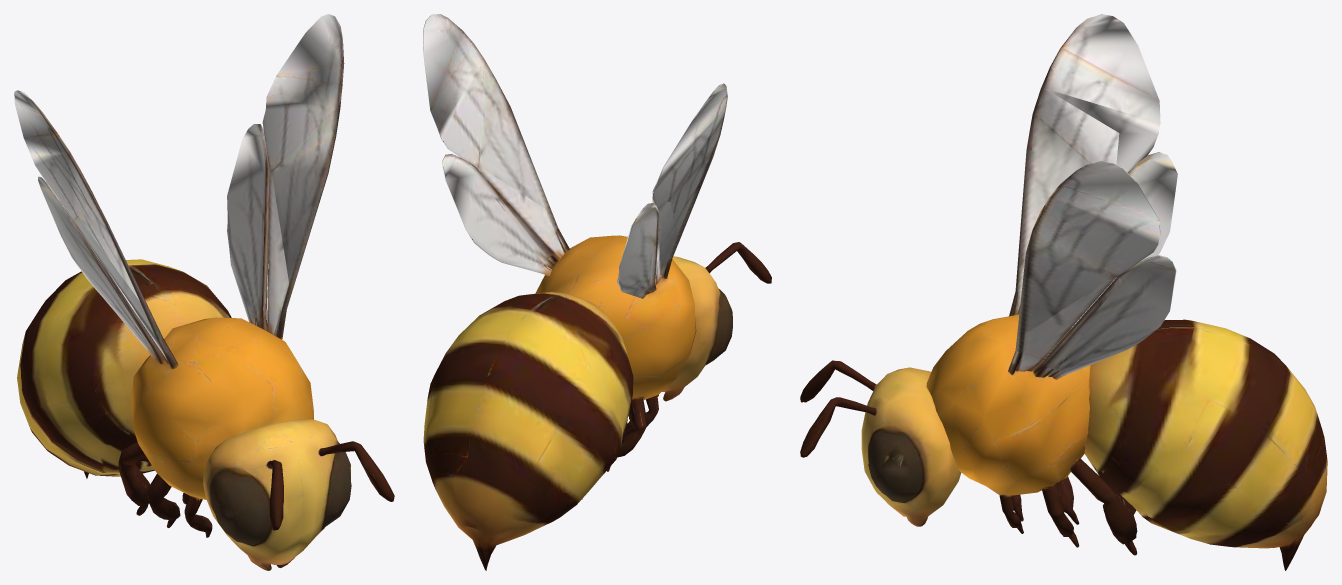
Rendered from bee.glb.
The picture shows the model from 3 angles, left to right: view 1: azimuth 30°, elevation 25°; view 2: azimuth 150°, elevation 25°; view 3: azimuth 270°, elevation 25°; orthographic projection. The views are drawn at different scales.
Visible parts, largest first — view 1: body_mesh, wing_fore_L_mesh, wing_fore_R_mesh, wing_hind_L_mesh, wing_hind_R_mesh, antenna_L_mesh, antenna_R_mesh, foreleg_R_mesh; view 2: body_mesh, wing_fore_L_mesh, wing_hind_L_mesh, wing_fore_R_mesh, wing_hind_R_mesh, antenna_R_mesh; view 3: body_mesh, wing_fore_R_mesh, wing_fore_L_mesh, wing_hind_L_mesh, wing_hind_R_mesh, antenna_L_mesh, antenna_R_mesh.
Boxes of the visible parts, box(x1,y1,x2,y2) form: body_mesh: box(17, 259, 351, 570); wing_fore_L_mesh: box(262, 14, 344, 339); wing_fore_R_mesh: box(14, 90, 178, 368); wing_hind_L_mesh: box(227, 124, 269, 331); wing_hind_R_mesh: box(38, 176, 165, 363); antenna_L_mesh: box(318, 441, 394, 501); antenna_R_mesh: box(266, 460, 283, 530); foreleg_R_mesh: box(184, 495, 212, 537); body_mesh: box(423, 235, 732, 570); wing_fore_L_mesh: box(423, 14, 569, 258); wing_hind_L_mesh: box(442, 154, 559, 275); wing_fore_R_mesh: box(652, 83, 727, 284); wing_hind_R_mesh: box(616, 203, 659, 298); antenna_R_mesh: box(705, 242, 771, 283); body_mesh: box(861, 314, 1327, 570); wing_fore_R_mesh: box(1009, 14, 1160, 316); wing_fore_L_mesh: box(1008, 161, 1160, 374); wing_hind_L_mesh: box(1033, 255, 1176, 379); wing_hind_R_mesh: box(1082, 152, 1177, 315); antenna_L_mesh: box(800, 397, 877, 457); antenna_R_mesh: box(800, 360, 876, 402).
Size of the model in its own units: 0.00938 by 0.0142 by 0.0141.
1 material, 1 textured.
